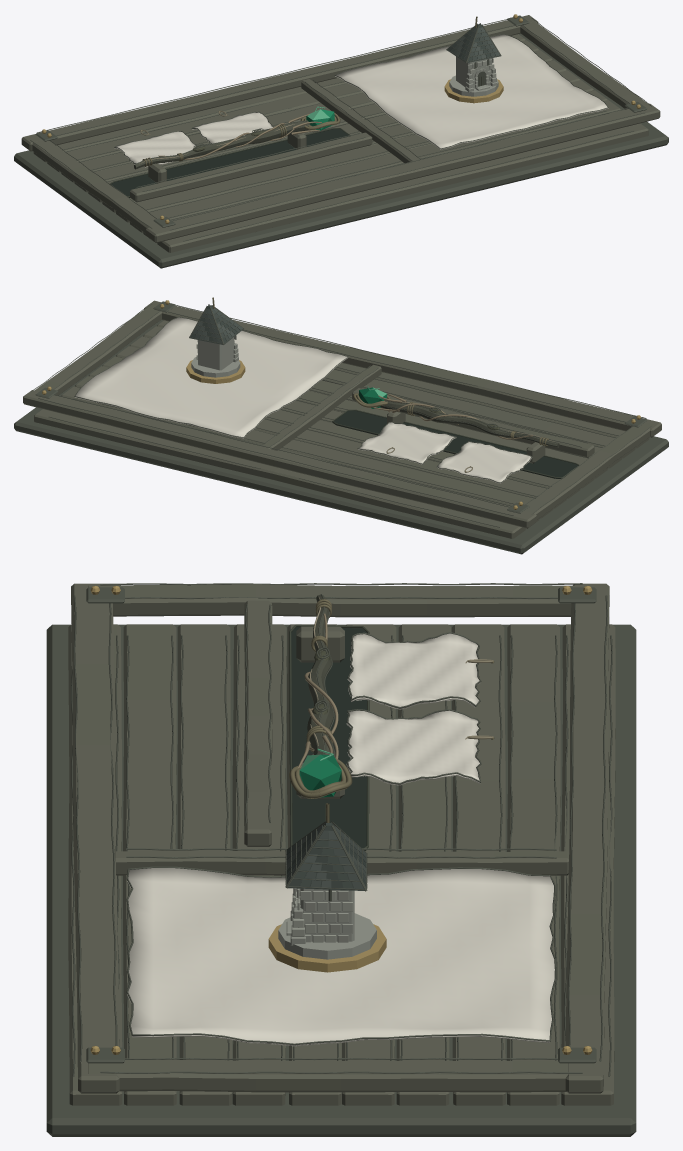
3 renders of one model, top to bottom at view 1: azimuth 30°, elevation 25°; view 2: azimuth 150°, elevation 25°; view 3: azimuth 270°, elevation 25°, orthographic. The views are drawn at different scales.
Visible parts, largest first — view 1: MapPaper, Backdrop, Bottom frame, Backboard, Top frame, Backboard.002, Backboard.003, Wand shelf, Backboard.008, Left frame, Right frame, R2 lining behind existing wand (+21 smaller); view 2: MapPaper, Backdrop, Top frame, Backboard.009, Bottom frame, Backboard.007, Backboard.001, Backboard.006, Left frame, Right frame, Backboard, TagArmor (+22 smaller); view 3: MapPaper, Backdrop, Bottom frame, Top frame, Backboard.001, Backboard.008, Right frame, Backboard.002, Left frame, Backboard.007, TagArmor, TagAcquire (+32 smaller).
Boxes of the visible parts, x1=… form: MapPaper: x1=335, y1=34, x2=608, y2=149; Backdrop: x1=14, y1=33, x2=668, y2=268; Bottom frame: x1=145, y1=103, x2=660, y2=242; Backboard: x1=157, y1=123, x2=648, y2=252; Top frame: x1=21, y1=15, x2=537, y2=151; Backboard.002: x1=130, y1=100, x2=620, y2=232; Backboard.003: x1=116, y1=90, x2=607, y2=222; Wand shelf: x1=130, y1=132, x2=372, y2=202; Backboard.008: x1=47, y1=40, x2=539, y2=172; Left frame: x1=32, y1=140, x2=167, y2=232; Right frame: x1=520, y1=21, x2=654, y2=112; R2 lining behind existing wand: x1=111, y1=129, x2=349, y2=197; MapPaper: x1=75, y1=317, x2=348, y2=438; Backdrop: x1=14, y1=319, x2=668, y2=554; Top frame: x1=23, y1=390, x2=536, y2=528; Backboard.009: x1=34, y1=409, x2=525, y2=538; Bottom frame: x1=144, y1=300, x2=661, y2=437; Backboard.007: x1=61, y1=386, x2=553, y2=518; Backboard.001: x1=143, y1=326, x2=635, y2=458; Backboard.006: x1=75, y1=376, x2=566, y2=508; Left frame: x1=524, y1=422, x2=654, y2=519; Right frame: x1=34, y1=302, x2=161, y2=398; Backboard: x1=157, y1=320, x2=649, y2=448; TagArmor: x1=358, y1=422, x2=456, y2=464; MapPaper: x1=127, y1=868, x2=554, y2=1046; Backdrop: x1=46, y1=624, x2=636, y2=1136; Bottom frame: x1=71, y1=583, x2=119, y2=1093; Top frame: x1=565, y1=583, x2=609, y2=1093; Backboard.001: x1=123, y1=624, x2=176, y2=1105; Backboard.008: x1=507, y1=624, x2=560, y2=1105; Right frame: x1=88, y1=1059, x2=594, y2=1092; Backboard.002: x1=177, y1=624, x2=232, y2=1105; Left frame: x1=88, y1=584, x2=574, y2=617; Backboard.007: x1=451, y1=624, x2=505, y2=1105; TagArmor: x1=346, y1=710, x2=480, y2=785; TagAcquire: x1=347, y1=633, x2=480, y2=709.
Bounding box in the file's own units: 17 × 3.42 × 8.5.
